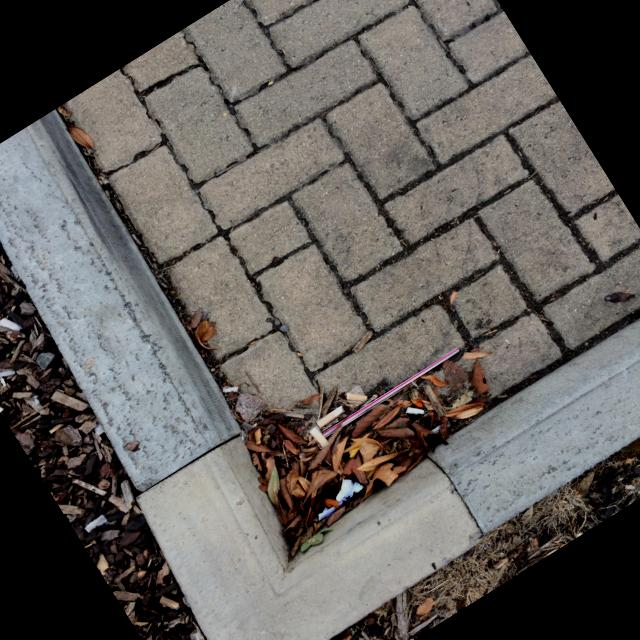Cigarette: (317, 406, 343, 426), (310, 427, 327, 447), (0, 317, 21, 331), (407, 407, 429, 416), (346, 392, 367, 401)
Paper bag: (319, 478, 363, 520)
Straw: (323, 347, 460, 436)
